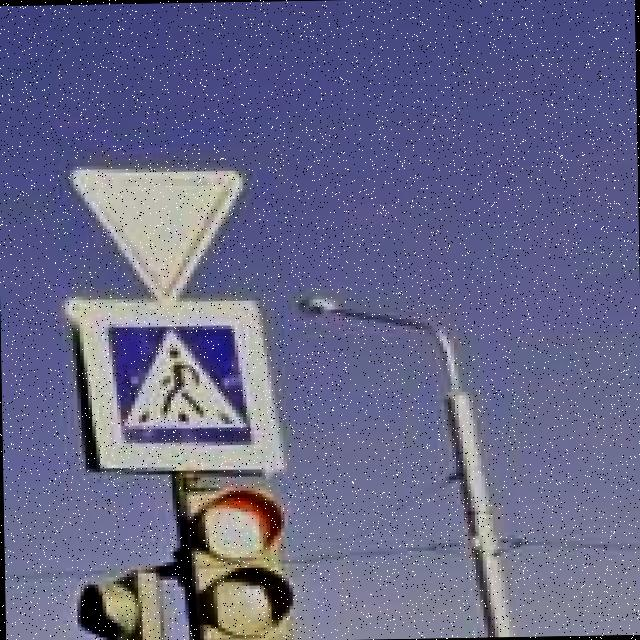Przejscie dla pieszych: (72, 296, 290, 476)
Ustap pierwszenstwa: (70, 164, 248, 304)
